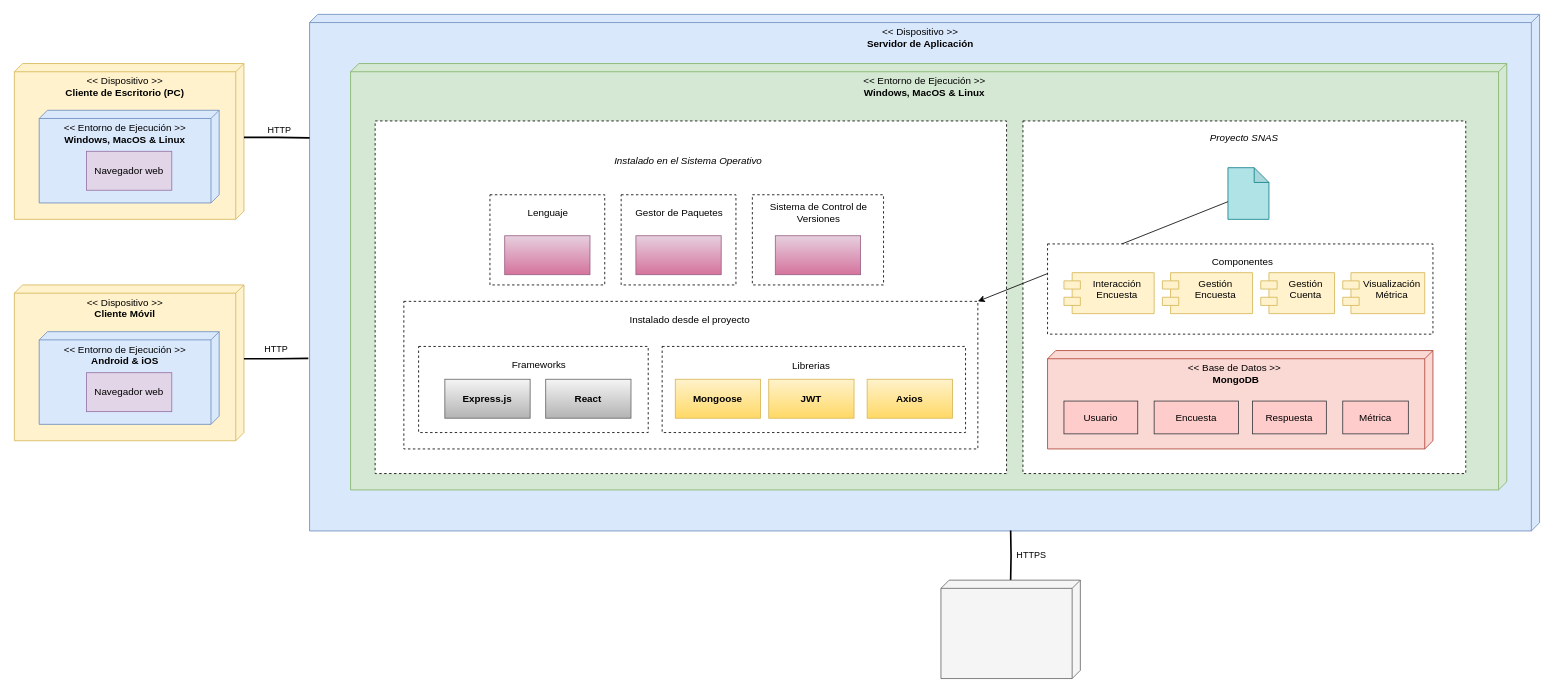
The diagram is 1554 pixels wide and 693 high, and some of its shapes have lost their labels. Each missing label, with the centre of its shape:
<< Dispositivo >> API de HuggingFace: (x=1010, y=629)
Git: (x=817, y=255)
npm: (x=678, y=255)
requirements.txt: (x=1248, y=193)
TypeScript: (x=547, y=255)
